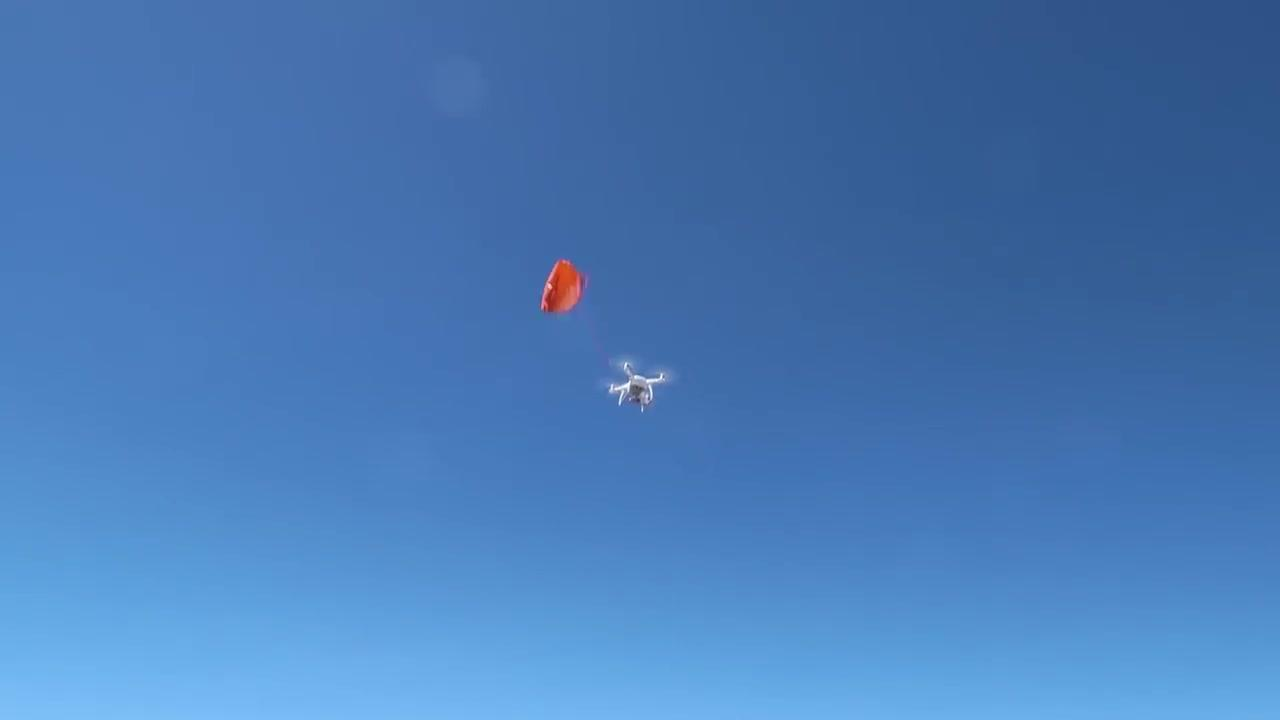UAV: (610, 363, 666, 414)
